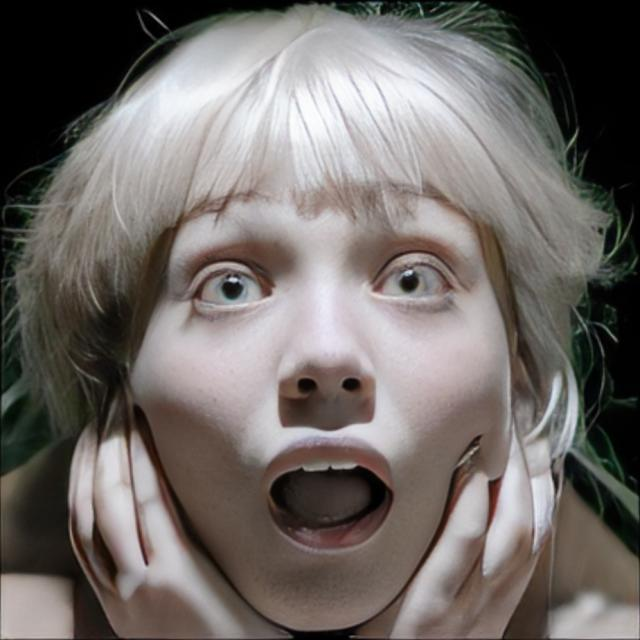fear: (119, 90, 512, 632)
